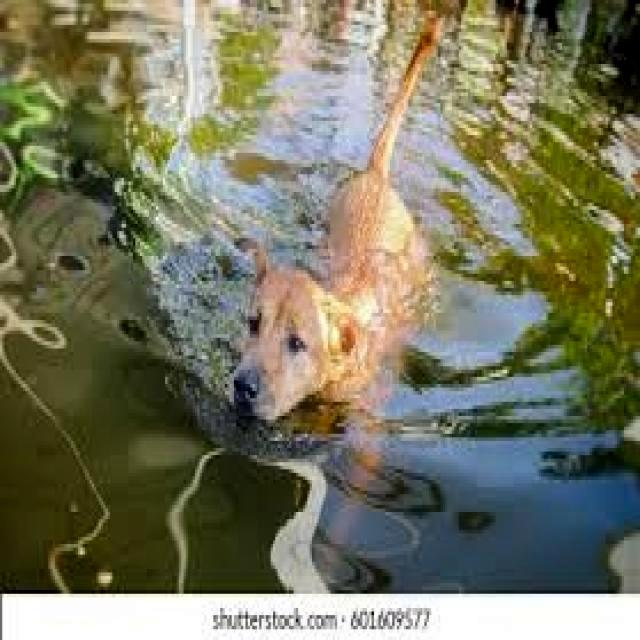dog: (217, 10, 456, 434)
